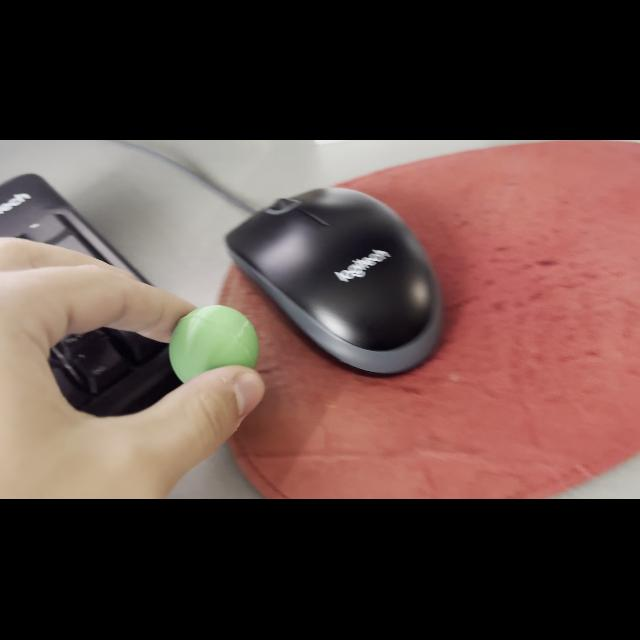objects: (165, 298, 262, 384)
